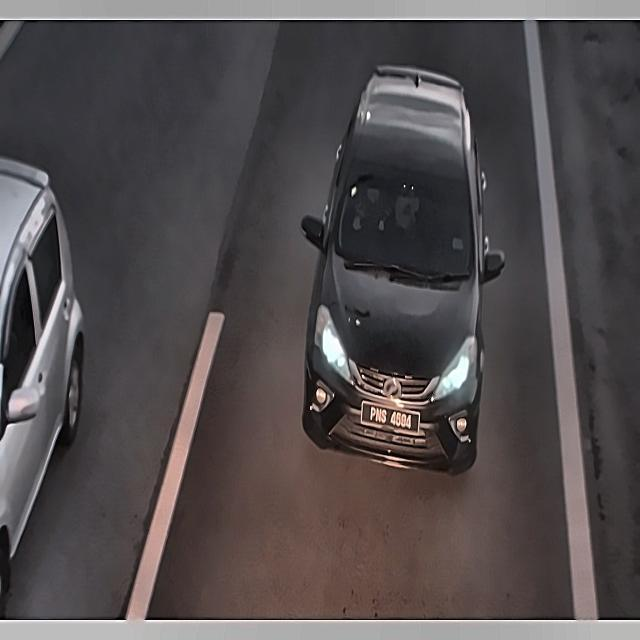car: (360, 401, 419, 445)
